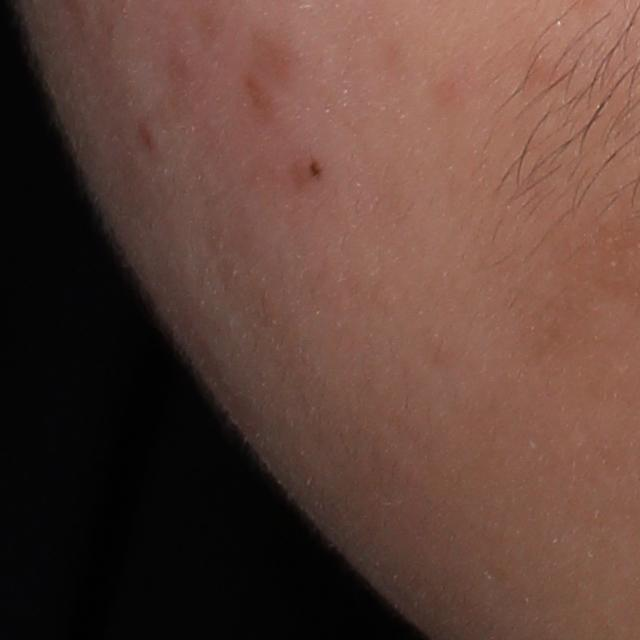nevus: (309, 157, 322, 181)
